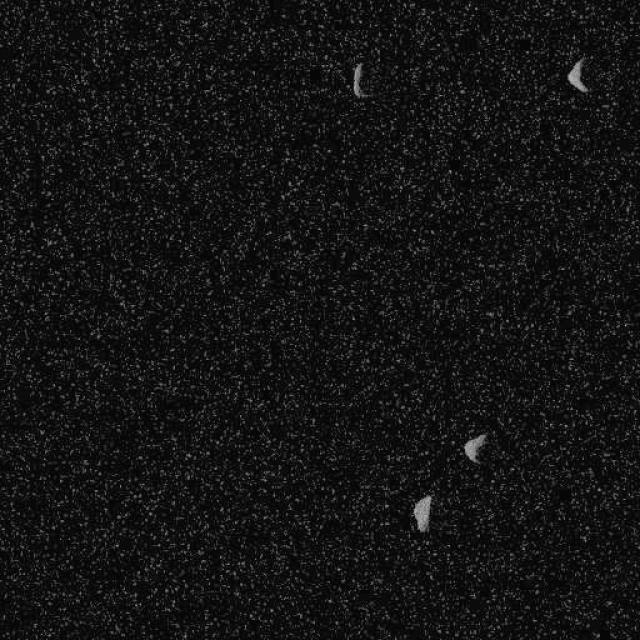D2: (565, 54, 590, 94), (462, 432, 488, 463), (412, 493, 432, 532), (352, 62, 366, 98)
